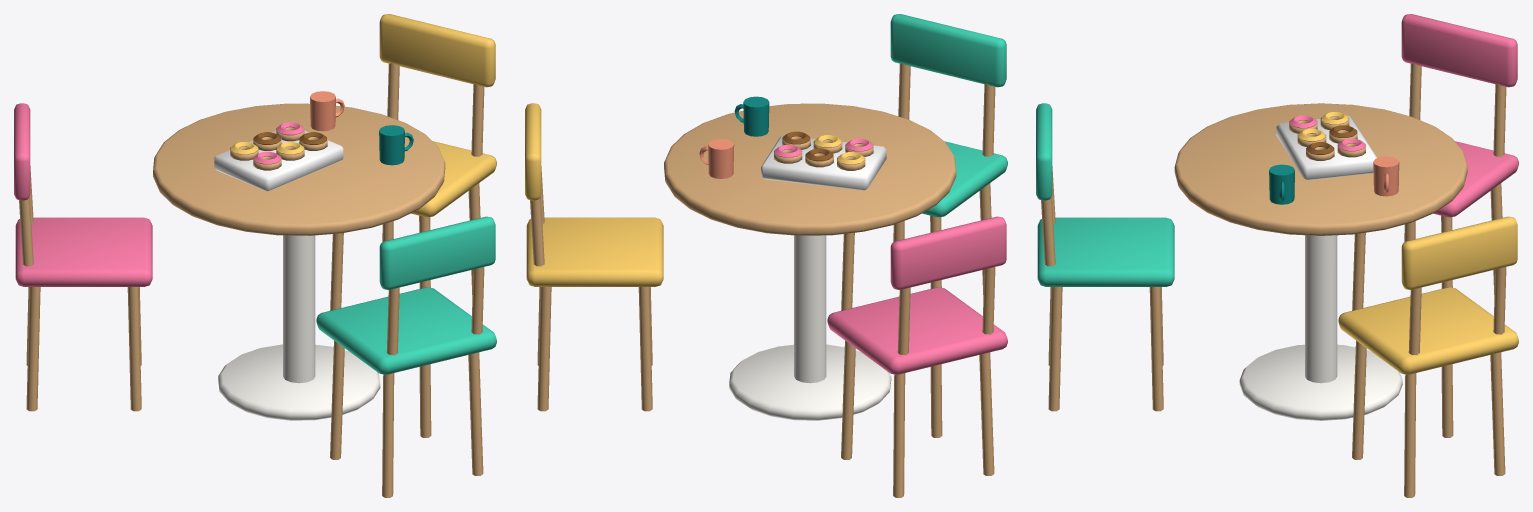
The model's file is break_table.glb.
3 renders of one model, left to right at view 1: azimuth 30°, elevation 25°; view 2: azimuth 150°, elevation 25°; view 3: azimuth 270°, elevation 25°, orthographic.
Visible parts, largest first — view 1: BreakTable; view 2: BreakTable; view 3: BreakTable.
Part boxes in pixels (bbox=[...]): BreakTable: bbox=[14, 14, 496, 497]; BreakTable: bbox=[525, 14, 1007, 497]; BreakTable: bbox=[1036, 14, 1518, 497].
Size of the model in its own units: 1.7 by 0.88 by 1.48.
